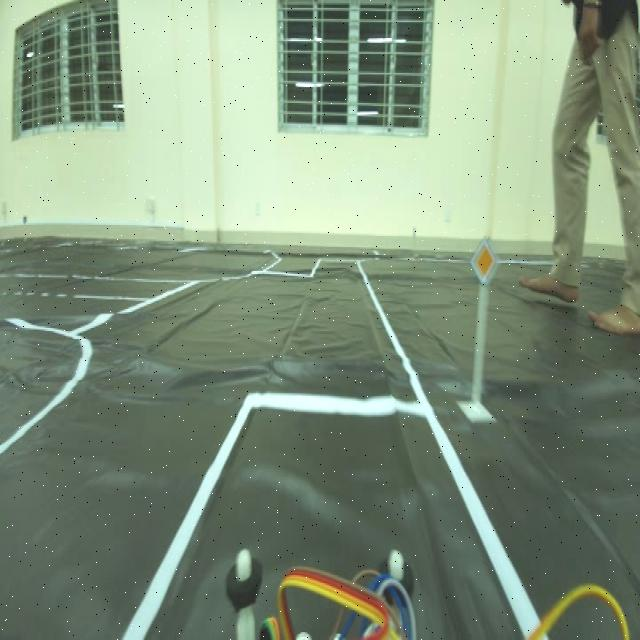priority: (470, 238, 500, 286)
